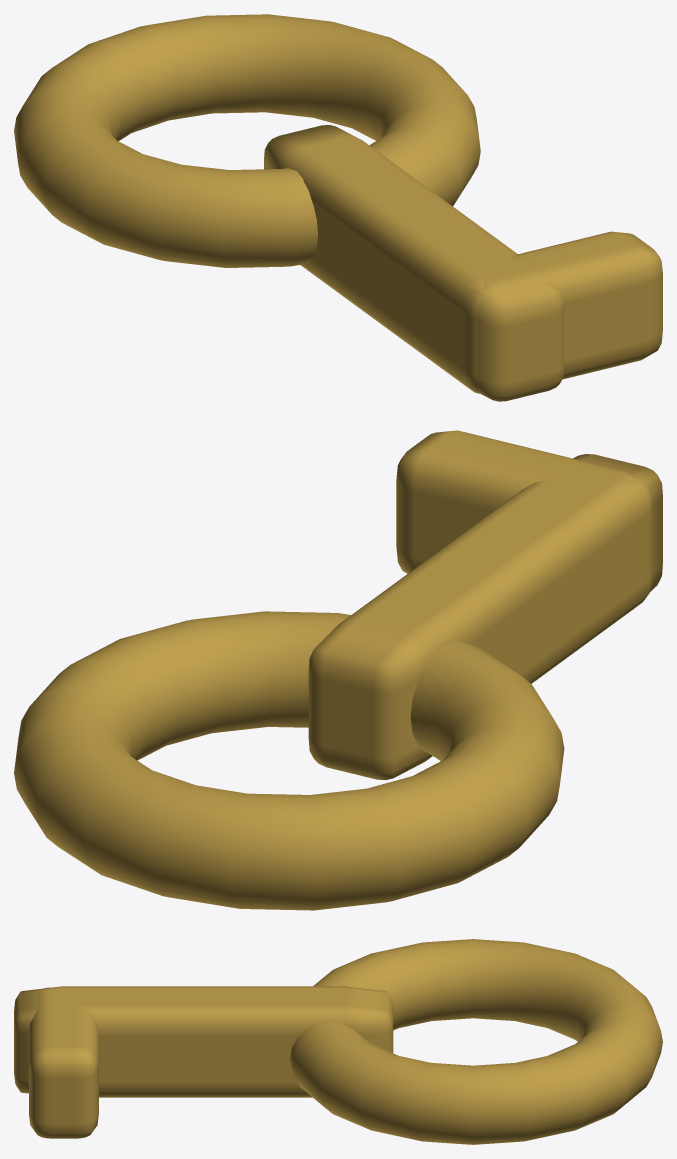
Rendered from key.glb.
The picture shows the model from 3 angles, top to bottom: view 1: azimuth 30°, elevation 25°; view 2: azimuth 150°, elevation 25°; view 3: azimuth 270°, elevation 25°; orthographic projection. The views are drawn at different scales.
Parts seen in each view (by area): view 1: key-ring, shaft, tooth; view 2: key-ring, shaft, tooth; view 3: key-ring, shaft, tooth.
Part boxes in pixels (left/top/right/bottom): key-ring: left=14, top=14, right=480, bottom=267; shaft: left=264, top=125, right=564, bottom=401; tooth: left=452, top=231, right=662, bottom=393; key-ring: left=14, top=611, right=564, bottom=910; shaft: left=308, top=454, right=662, bottom=780; tooth: left=396, top=430, right=652, bottom=614; key-ring: left=290, top=939, right=662, bottom=1144; shaft: left=14, top=986, right=393, bottom=1097; tooth: left=29, top=987, right=98, bottom=1138.
Size of the model in its own units: 0.38 by 0.1 by 0.65.
